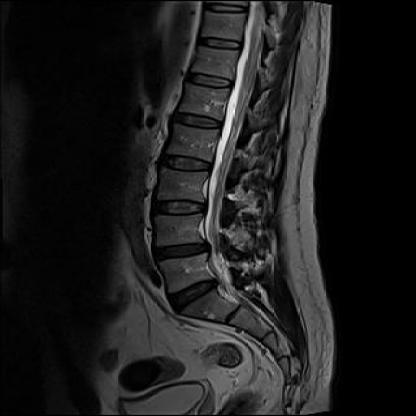Degenerative Disc Diseaserotation: (146, 237, 218, 267), (163, 281, 229, 307)
Disc Bulgerotation: (147, 237, 217, 266)
Disc Relaxationrotation: (146, 197, 211, 223)
